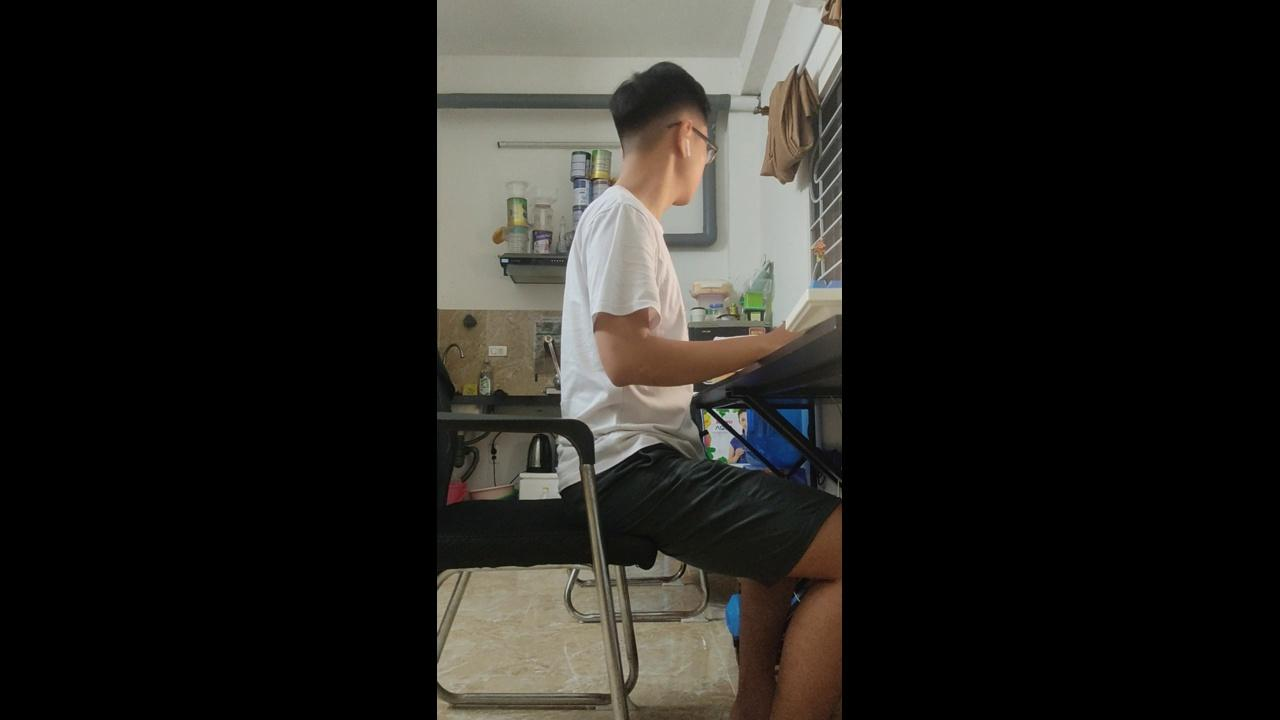GoodPosture: (566, 65, 844, 719), (561, 62, 763, 461)
